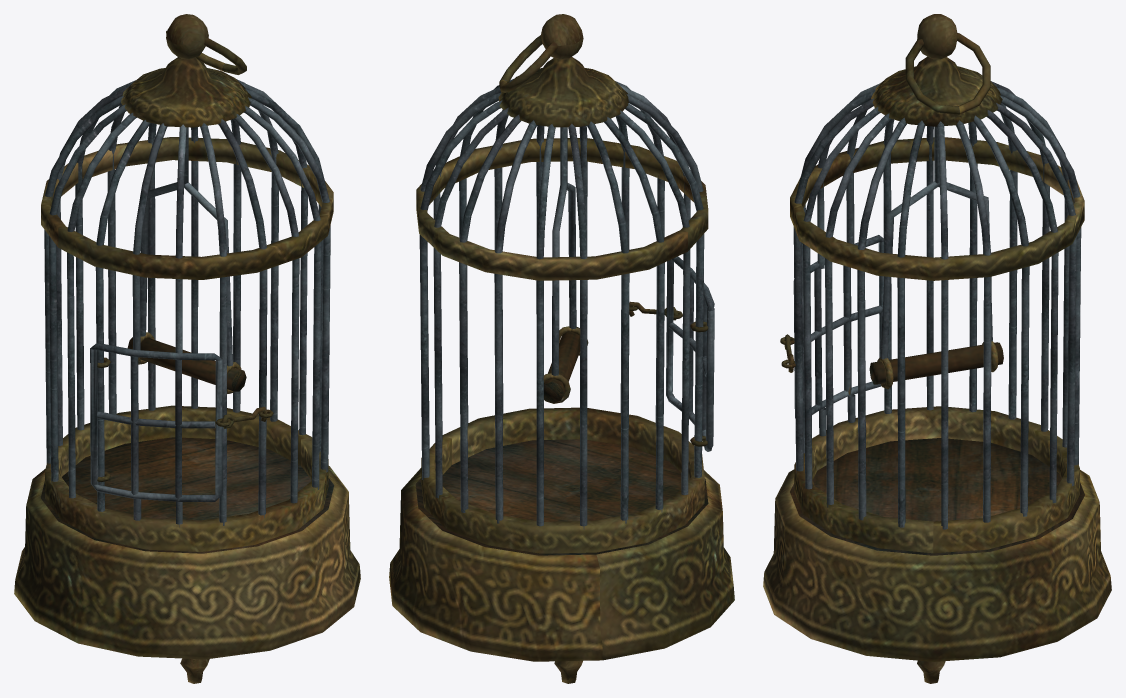
The model's file is Old_Birdcage.FBX.
3 renders of one model, left to right at view 1: azimuth 30°, elevation 25°; view 2: azimuth 150°, elevation 25°; view 3: azimuth 270°, elevation 25°, orthographic.
Parts seen in each view (by area): view 1: Old_Birdcage; view 2: Old_Birdcage; view 3: Old_Birdcage.
Boxes of the visible parts, <box> form: Old_Birdcage: <box>14,14,360,683</box>; Old_Birdcage: <box>389,14,734,683</box>; Old_Birdcage: <box>763,14,1111,683</box>.
Bounding box in the file's own units: 18.03 × 34.86 × 18.03.
